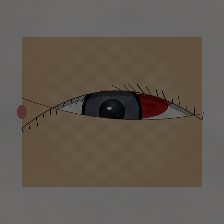hemorrhage_spot: (83, 67, 182, 146)
